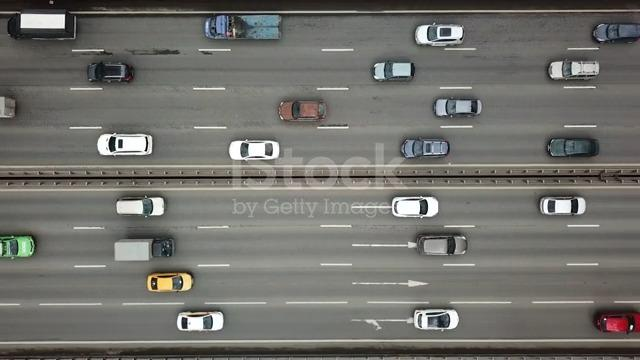Cars: (97, 133, 153, 157), (415, 24, 465, 47), (547, 137, 600, 158), (548, 60, 600, 81), (88, 61, 135, 84), (392, 196, 439, 219), (229, 140, 280, 161), (592, 22, 640, 44), (279, 100, 327, 122), (116, 196, 166, 217), (401, 138, 450, 159), (434, 97, 483, 118), (177, 311, 225, 332), (147, 272, 194, 293), (596, 312, 640, 334), (540, 196, 587, 216), (372, 61, 416, 82), (1, 235, 36, 259)
